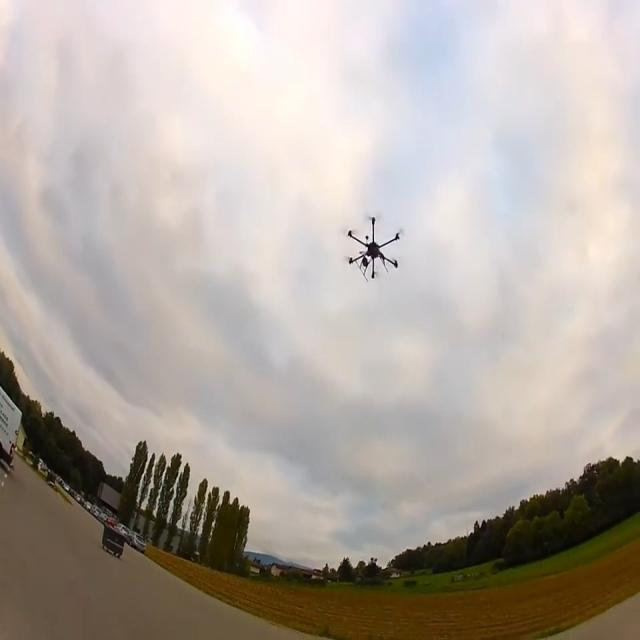drone: (346, 215, 401, 282)
